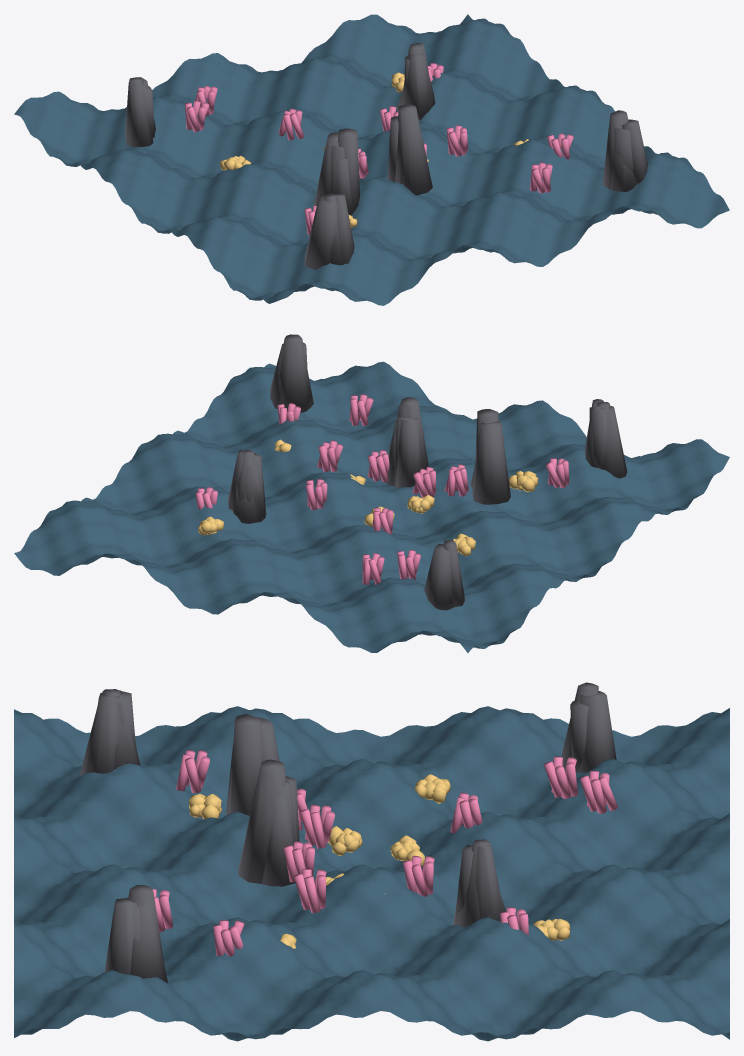
The model's file is ocean-floor.glb.
3 renders of one model, top to bottom at view 1: azimuth 30°, elevation 25°; view 2: azimuth 150°, elevation 25°; view 3: azimuth 270°, elevation 25°, orthographic. The views are drawn at different scales.
Parts seen in each view (by area): view 1: Node1, Node160, Node183, Node174, Node170, Node166, Node182, Node177, Node179, Node165, Node176, Node164 (+2 smaller); view 2: Node1, Node165, Node179, Node161, Node173, Node183, Node181, Node168, Node174, Node171, Node160; view 3: Node1, Node166, Node160, Node182, Node173, Node162, Node178, Node177, Node169, Node168, Node172, Node184 (+5 smaller).
Boxes of the visible parts, box(x1,y1,x2,y2) form: Node1: box(14, 14, 729, 305); Node160: box(398, 104, 432, 195); Node183: box(304, 199, 337, 270); Node174: box(126, 77, 153, 147); Node170: box(403, 53, 429, 119); Node166: box(338, 128, 359, 210); Node182: box(333, 193, 354, 264); Node177: box(622, 119, 647, 184); Node179: box(602, 110, 628, 189); Node165: box(313, 132, 338, 205); Node176: box(610, 151, 635, 191); Node164: box(335, 159, 354, 215); Node1: box(14, 361, 729, 652); Node165: box(472, 421, 510, 504); Node179: box(279, 334, 312, 412); Node161: box(395, 418, 421, 488); Node173: box(424, 544, 453, 610); Node183: box(599, 406, 627, 478); Node181: box(589, 407, 610, 467); Node168: box(230, 449, 263, 523); Node174: box(443, 539, 465, 607); Node171: box(231, 483, 262, 523); Node160: box(401, 397, 428, 469); Node1: box(14, 706, 729, 1041); Node166: box(228, 714, 262, 815); Node160: box(238, 759, 284, 883); Node182: box(79, 693, 120, 775); Node173: box(578, 691, 616, 772); Node162: box(262, 796, 295, 886); Node178: box(130, 905, 168, 983); Node177: box(104, 897, 137, 974); Node169: box(475, 844, 501, 921); Node168: box(456, 839, 502, 927); Node172: box(570, 700, 588, 772); Node184: box(114, 693, 140, 768).
Bounding box in the file's own units: 60 × 12.92 × 60.
